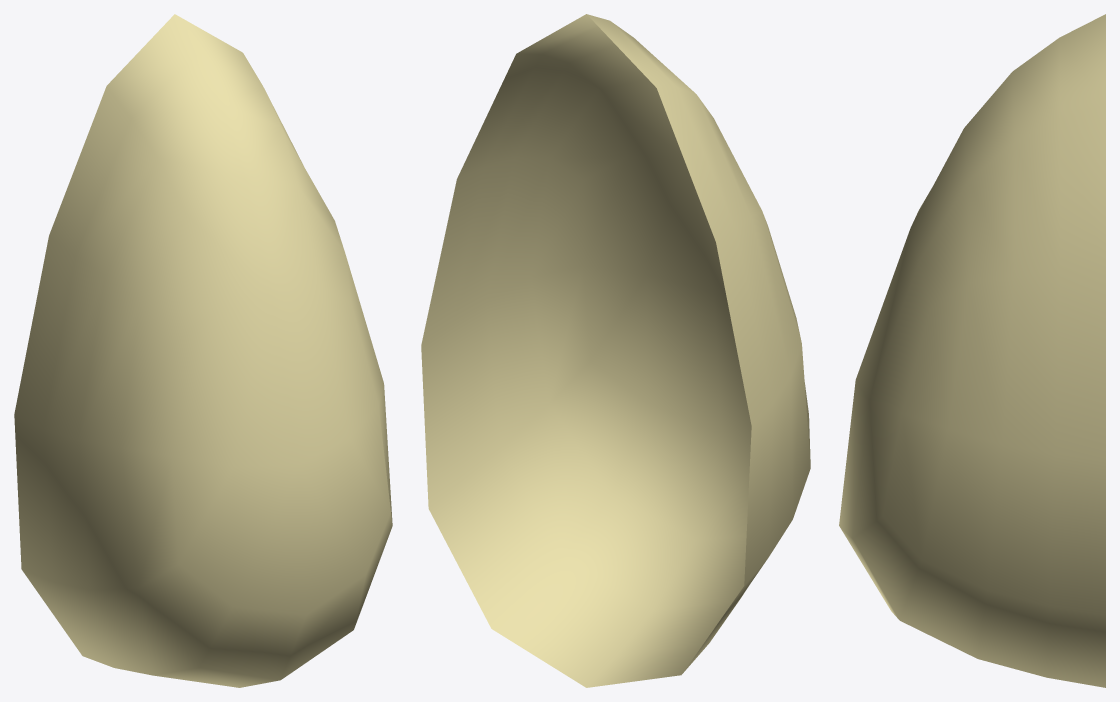
Rendered from nose-1.fbx.
3 views of the same model, side by side, from view 1: azimuth 30°, elevation 25°; view 2: azimuth 150°, elevation 25°; view 3: azimuth 270°, elevation 25° (orthographic). The views are drawn at different scales.
Parts seen in each view (by area): view 1: Cube; view 2: Cube; view 3: Cube.
Boxes of the visible parts, left/top/right/bottom form: Cube: left=14, top=14, right=392, bottom=687; Cube: left=421, top=14, right=810, bottom=687; Cube: left=839, top=14, right=1105, bottom=687.
Bounding box in the file's own units: 10.11 × 19.71 × 7.18.
